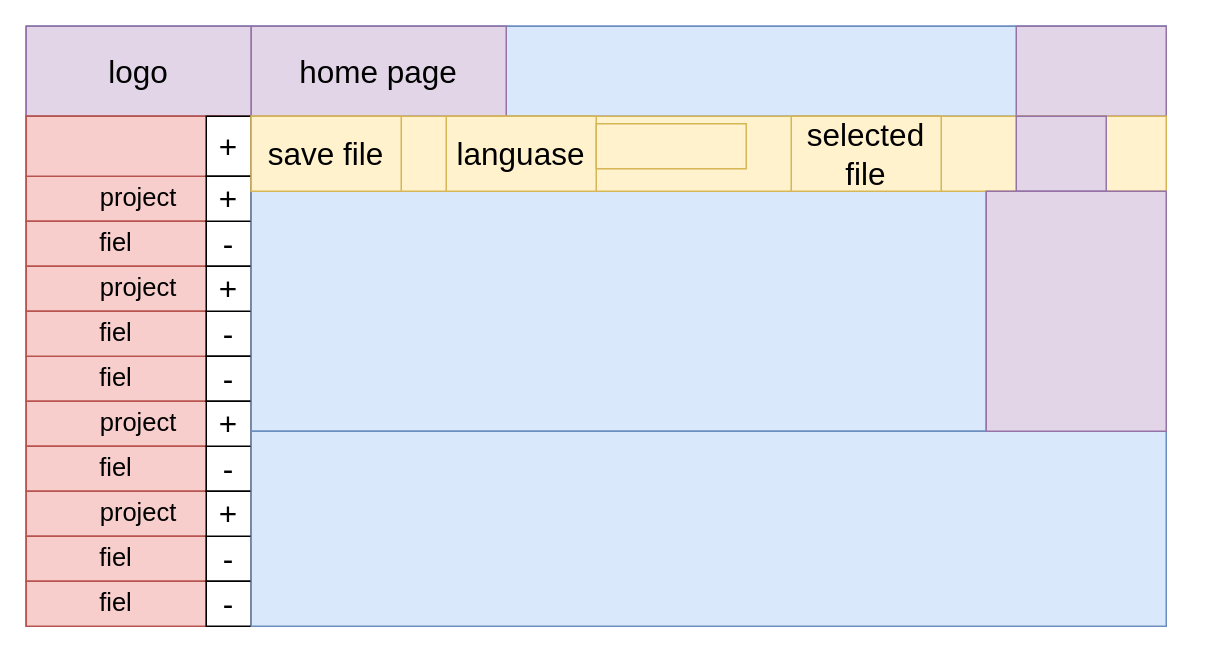
The diagram is 1205 pixels wide and 653 high, and some of its shapes have lost their labels. Each missing label, with the centre of its shape:
"ai" goes at [1060,153].
"ai area to generate fix or optimize code" goes at [1075,310].
"code editor area" goes at [618,310].
"explore" goes at [123,145].
"java" goes at [670,145].
"out put area" goes at [708,528].
"user" goes at [1090,70].
